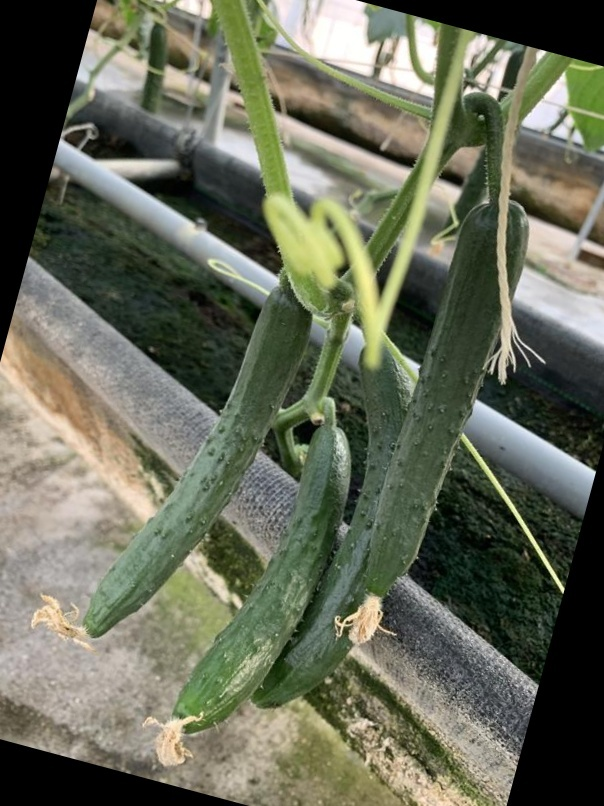mature: (70, 289, 309, 641), (359, 197, 520, 600), (165, 419, 353, 728), (259, 344, 416, 705)
